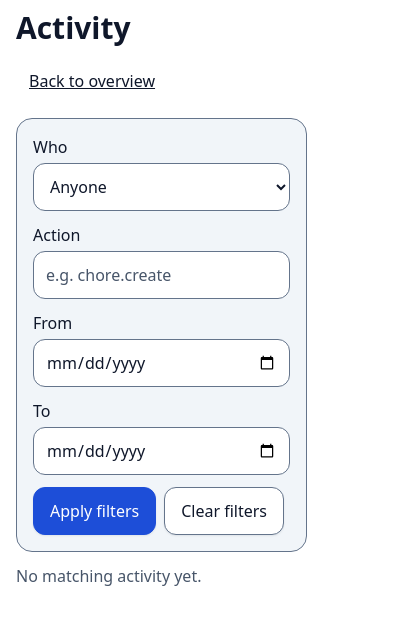
Test: filtering › a bad date range shows the field message next to the field, not as a generic failure
Expected: the text "No matching activity yet." is shown, [16, 564, 202, 588]
Type "2026-09-10" into the date field labelled "From" at (162,363), box [33, 339, 290, 387]
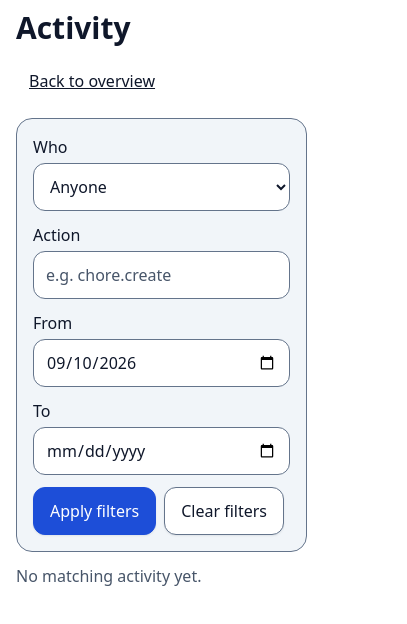
Type "2026-09-01" into the date field labelled "To" at (162,451), box [33, 427, 290, 475]
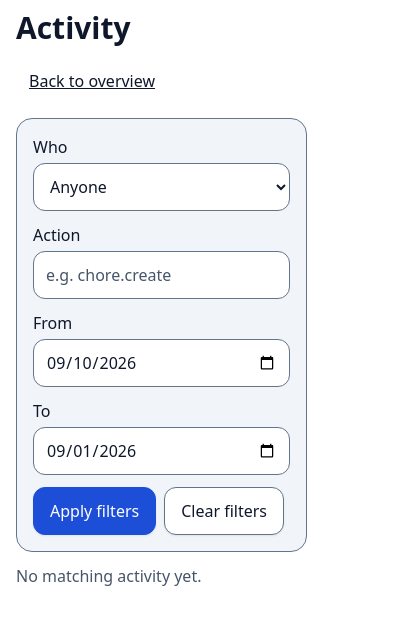
Click the button "Apply filters" at (95,511), box [33, 487, 156, 535]
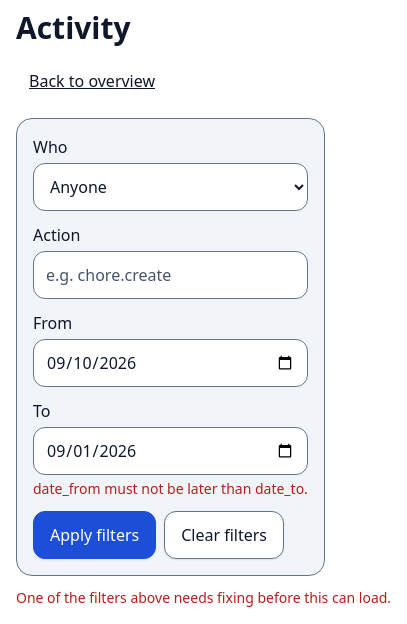
Now the text "date_from must not be later than date_to." is shown, box [33, 479, 308, 499]
